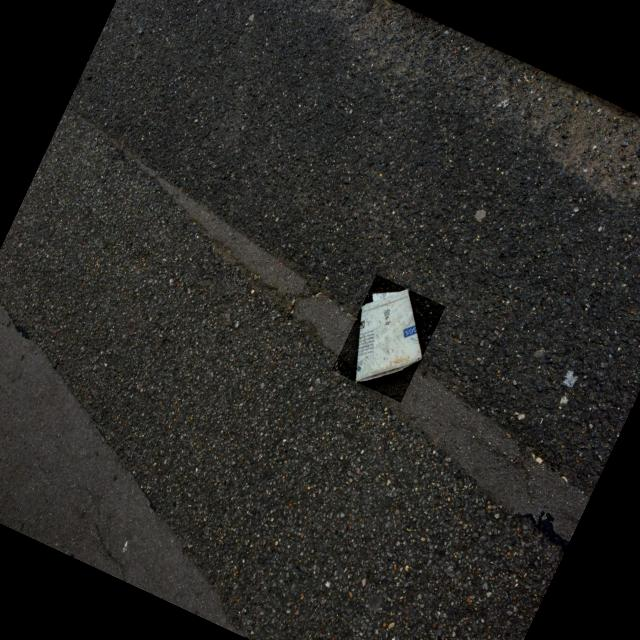Cup: (355, 289, 421, 382)
